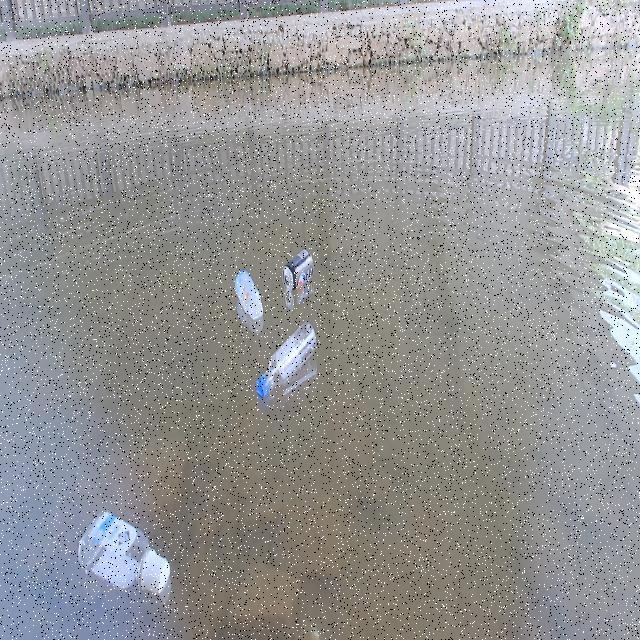Bottle: (66, 498, 175, 613), (245, 331, 336, 398), (226, 262, 266, 333)
Can: (279, 242, 322, 293)
